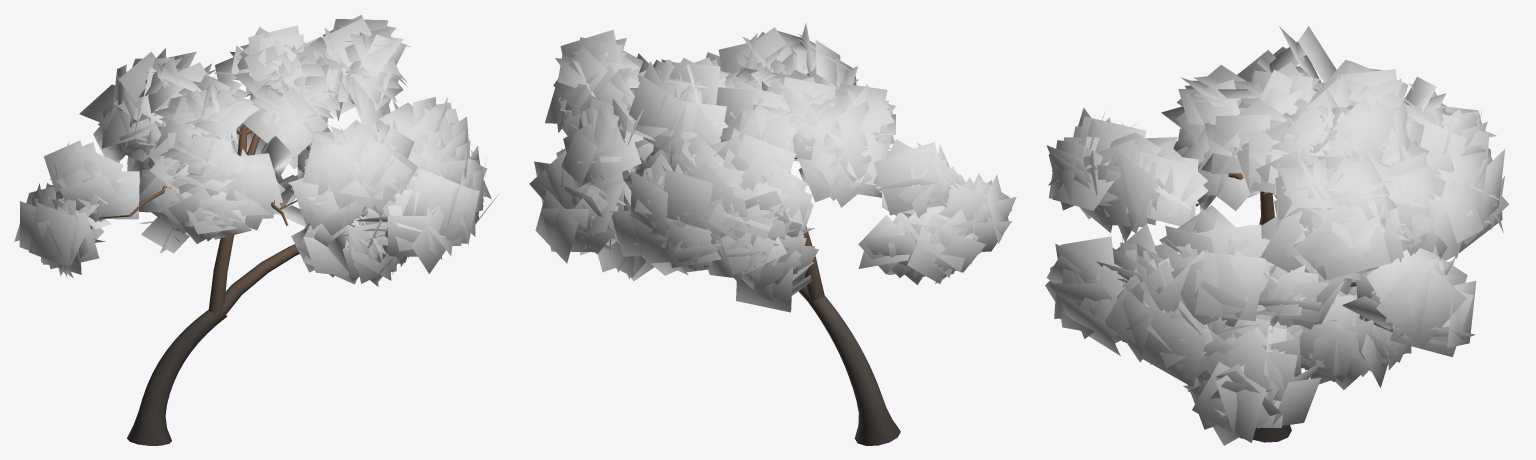
3 views of the same model, side by side, from view 1: azimuth 30°, elevation 25°; view 2: azimuth 150°, elevation 25°; view 3: azimuth 270°, elevation 25° (orthographic). The views are drawn at different scales.
Parts seen in each view (by area): view 1: crown, trunk; view 2: crown, trunk; view 3: crown, trunk.
Part boxes in pixels (x1,y1,x2,y2): crown: (14, 15, 499, 286); trunk: (99, 124, 310, 445); crown: (529, 23, 1016, 312); trunk: (640, 157, 900, 445); crown: (1045, 26, 1508, 445); trunk: (1228, 173, 1356, 442).
Bounding box in the file's own units: 13.16 × 9.89 × 10.02.
